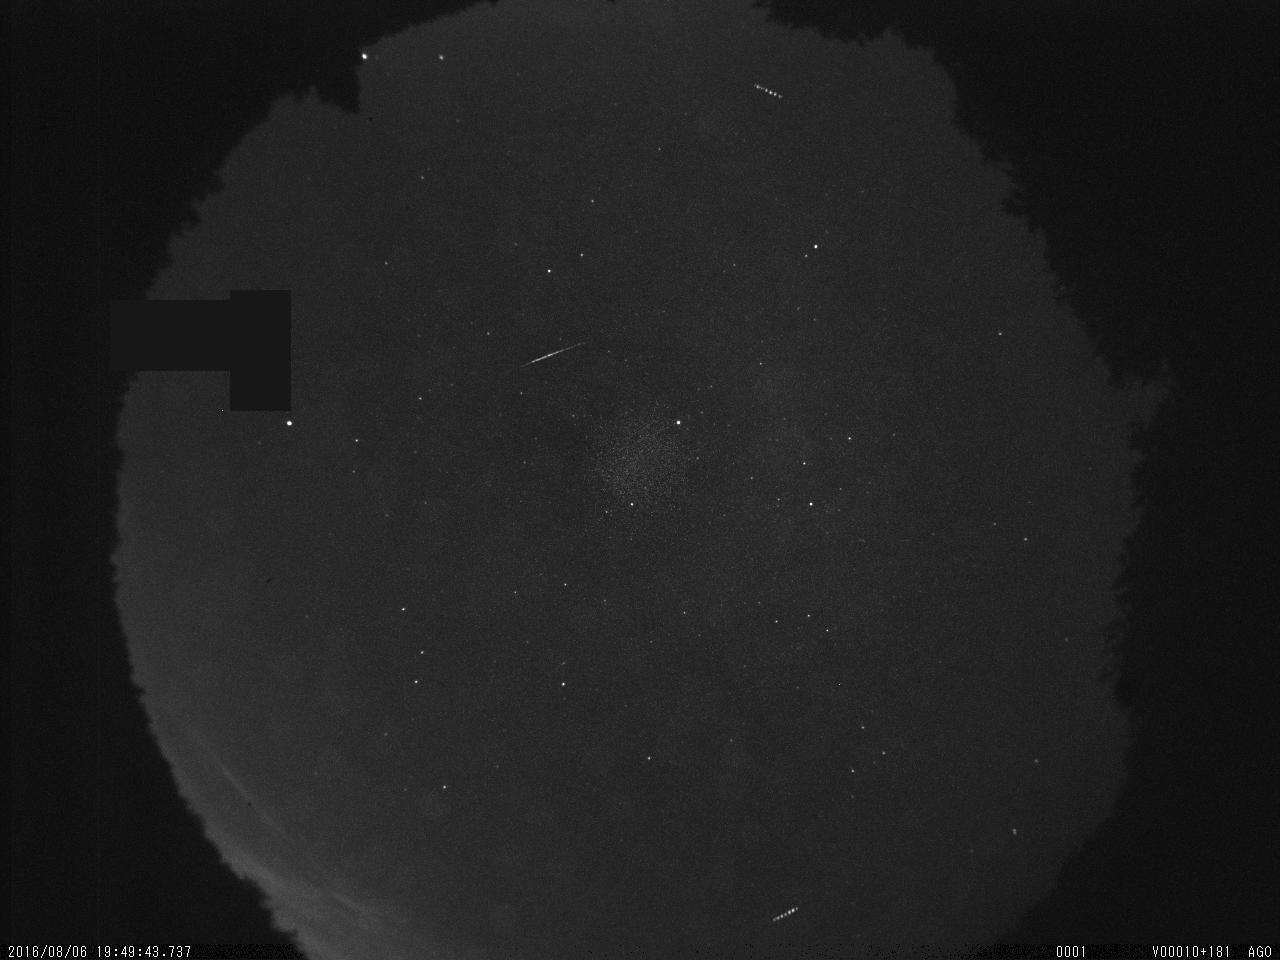meteor: (515, 326, 597, 376)
satelite: (747, 73, 789, 117), (765, 904, 805, 936)
